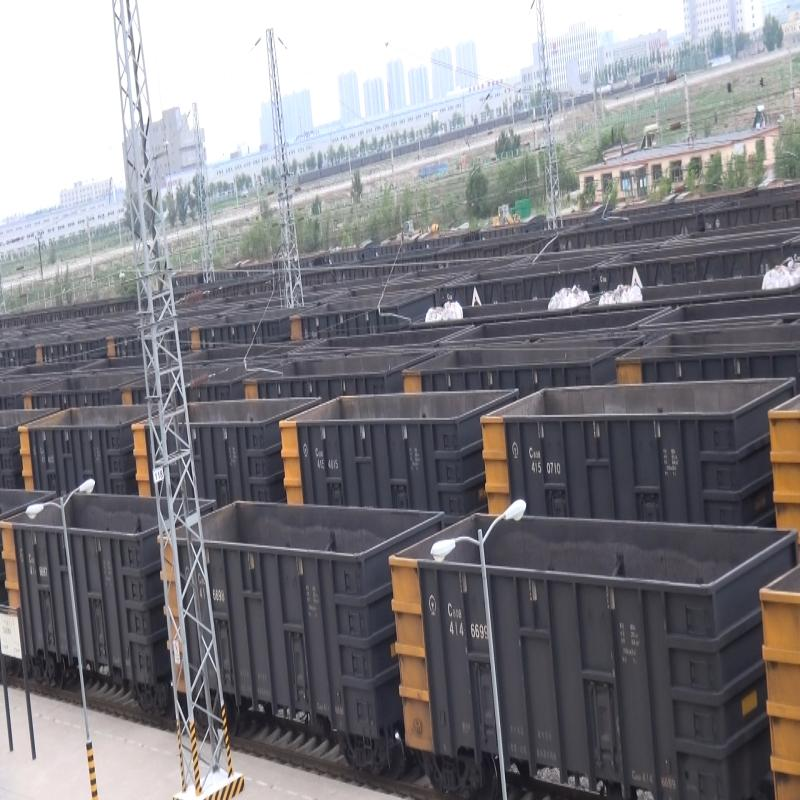train: (391, 500, 748, 800), (197, 495, 392, 772)
